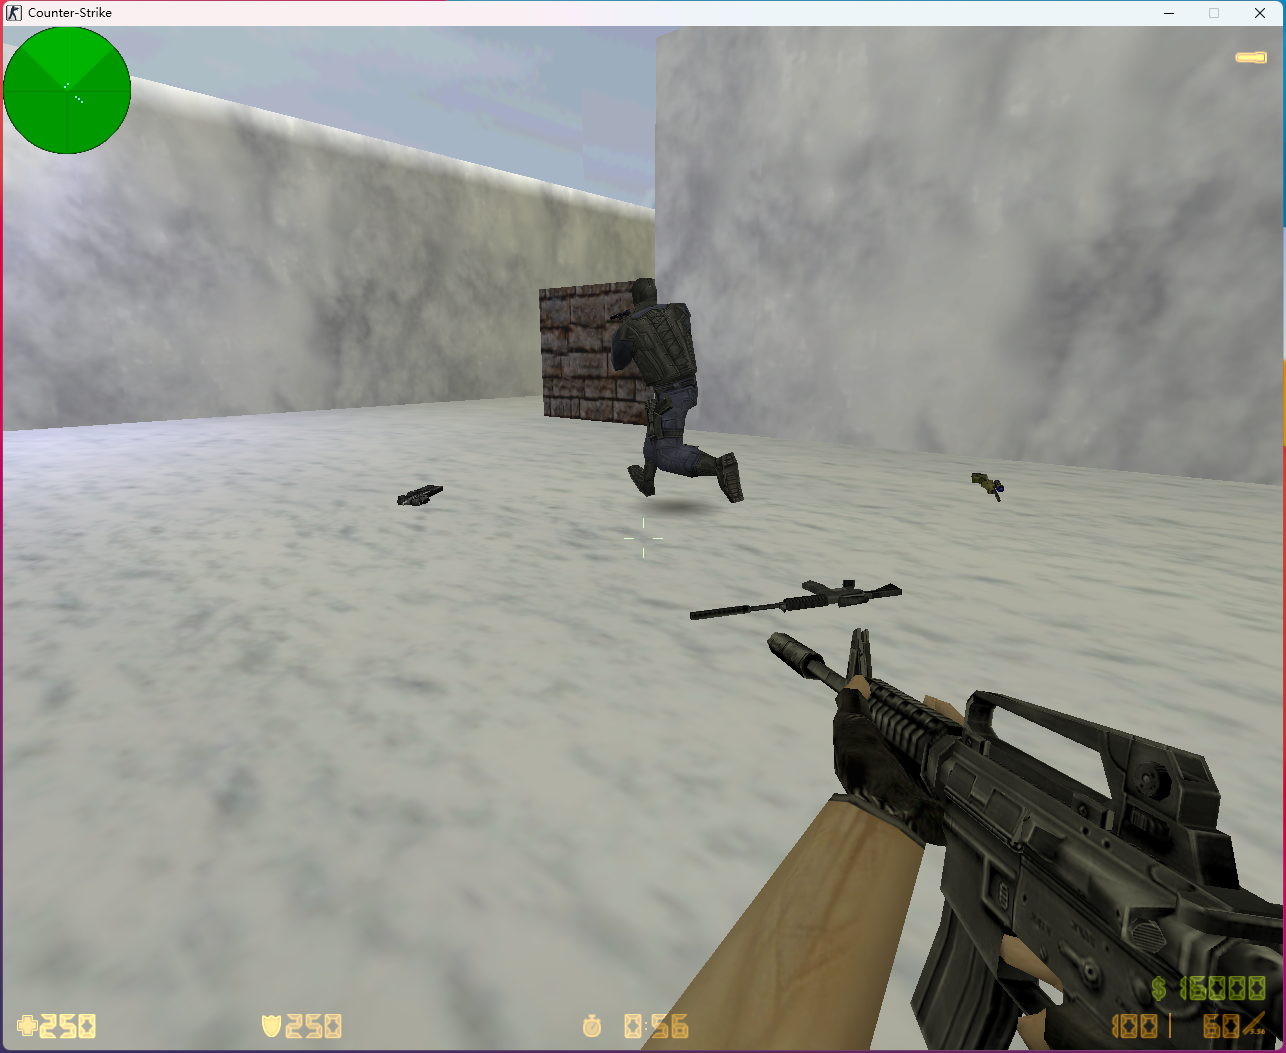C: (609, 277, 748, 509)
weapon: (683, 577, 912, 626), (393, 483, 450, 506), (966, 472, 1009, 501)
